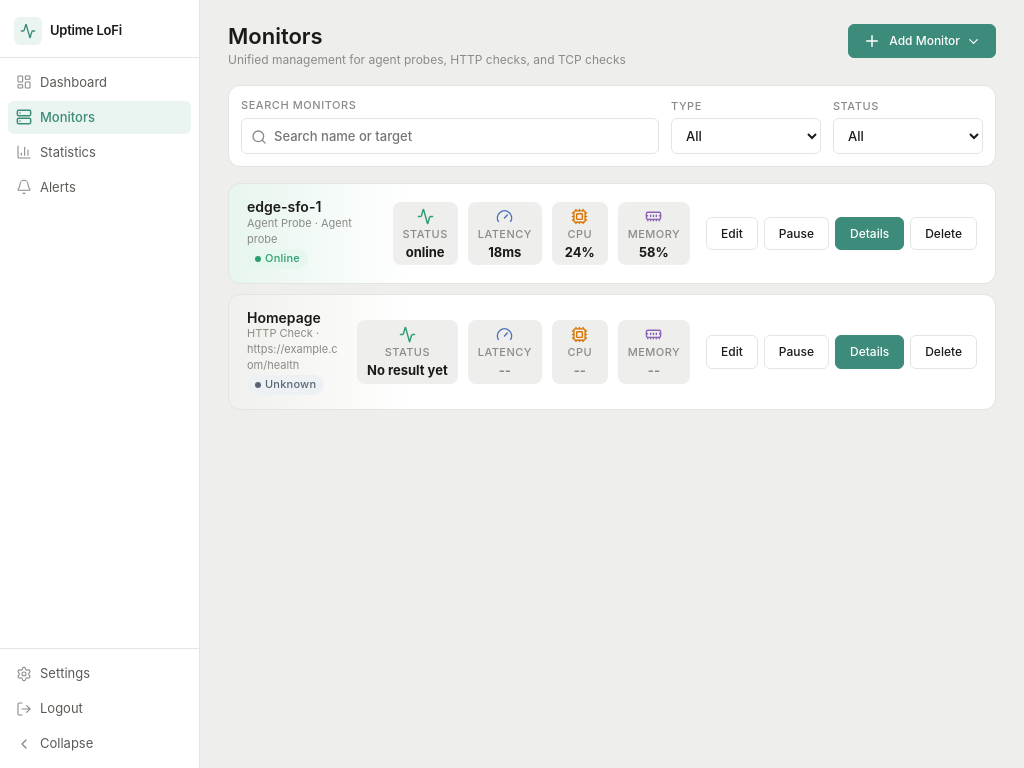
Test: Monitors page › distinguishes an empty monitor list from filtered no-match state
The image size is (1024, 768).
Click the button "Monitors" at (100, 117), box [8,101,191,134]
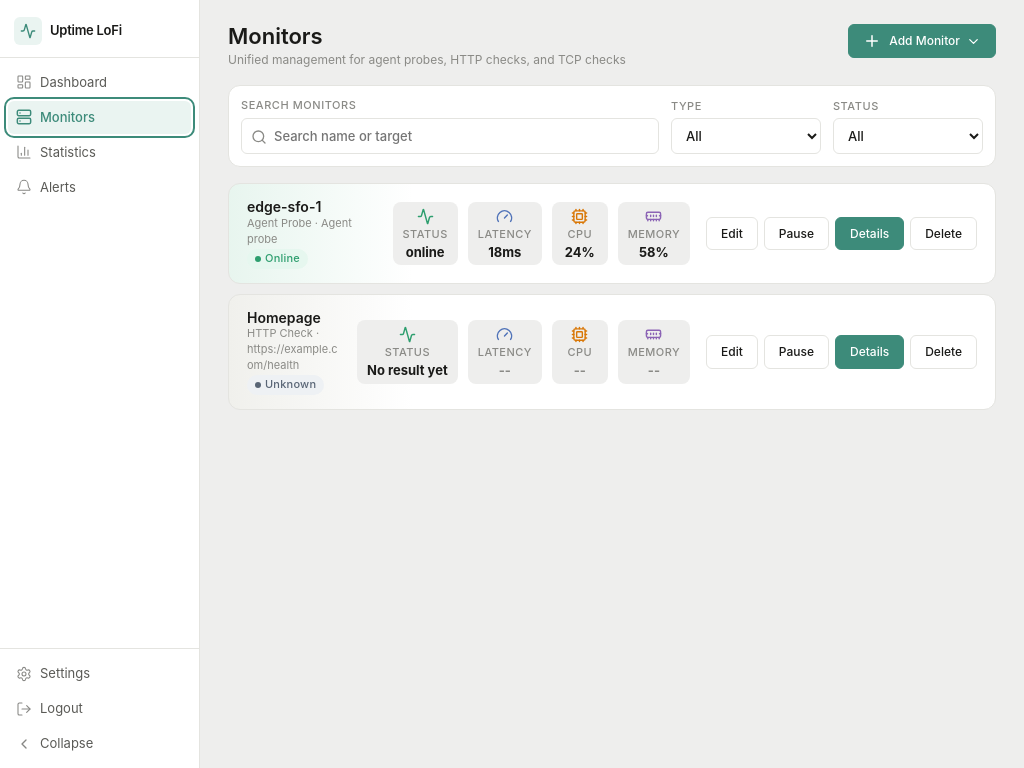
Type "not-present" into the field labelled "Search monitors" at (450, 136), box [241,118,659,154]
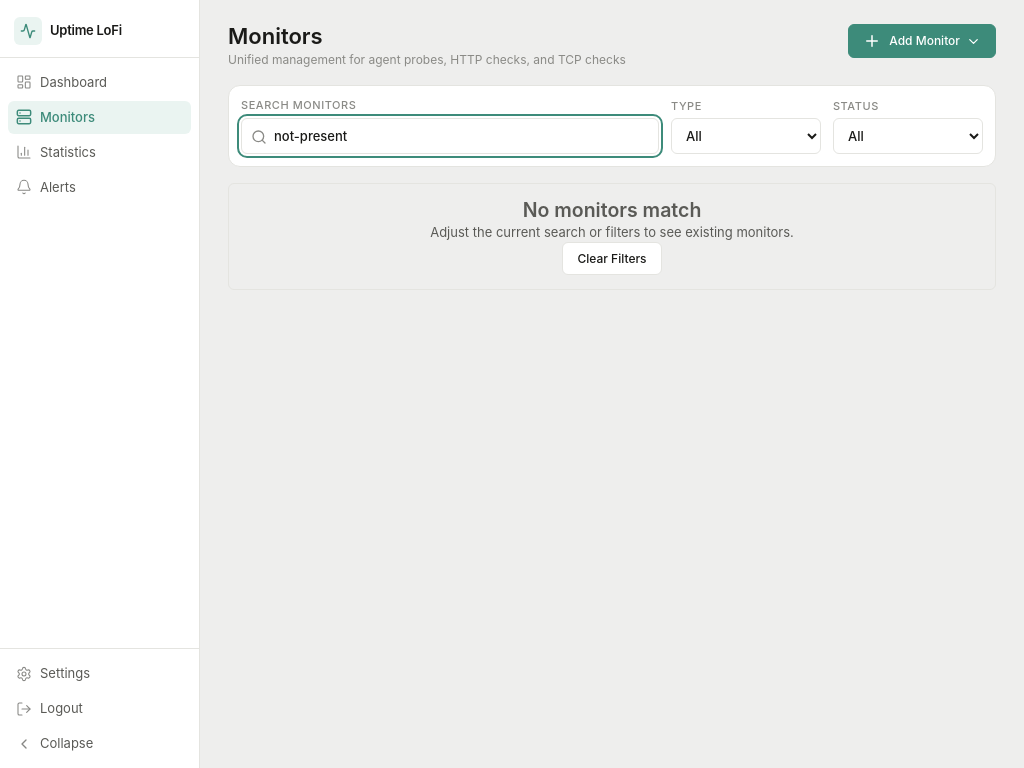
Expected: the heading "No monitors match" is shown, [523,198,701,222]
Click the button "Clear Filters" at (612, 258), box [562,242,662,275]
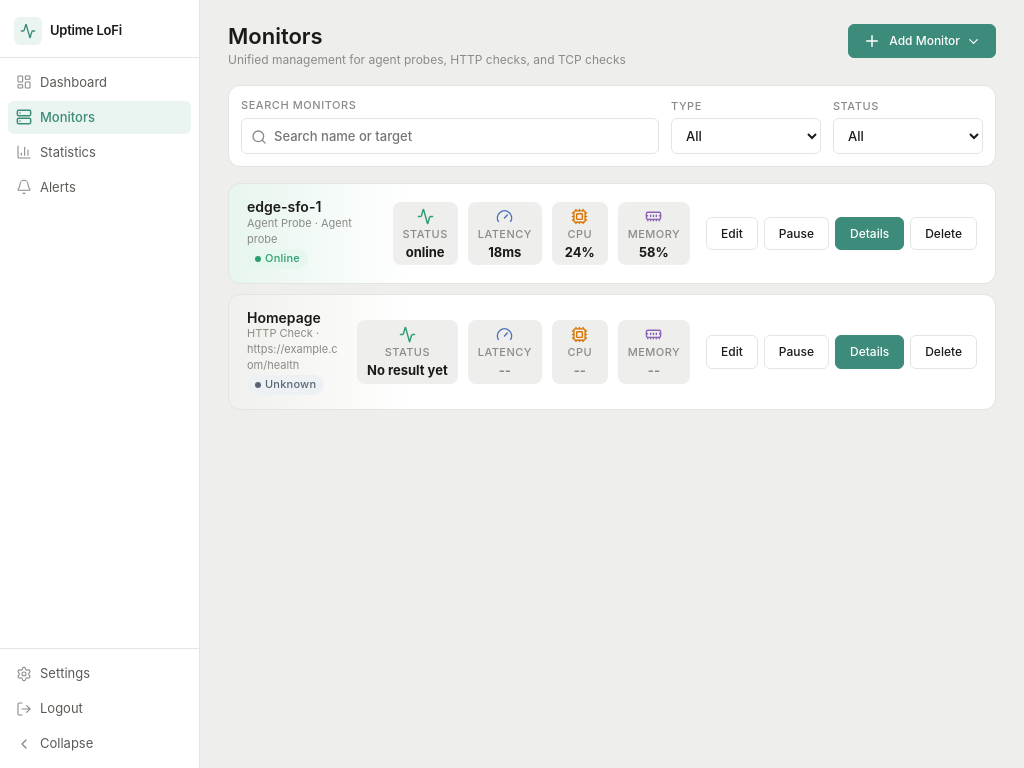
Expected: the element named "edge-sfo-1 monitor" is shown, [228,184,996,284]
